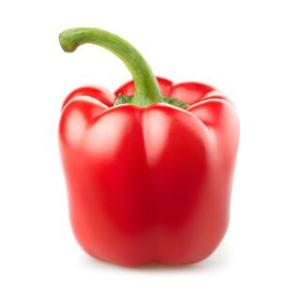bell_pepper: (59, 27, 243, 269)
